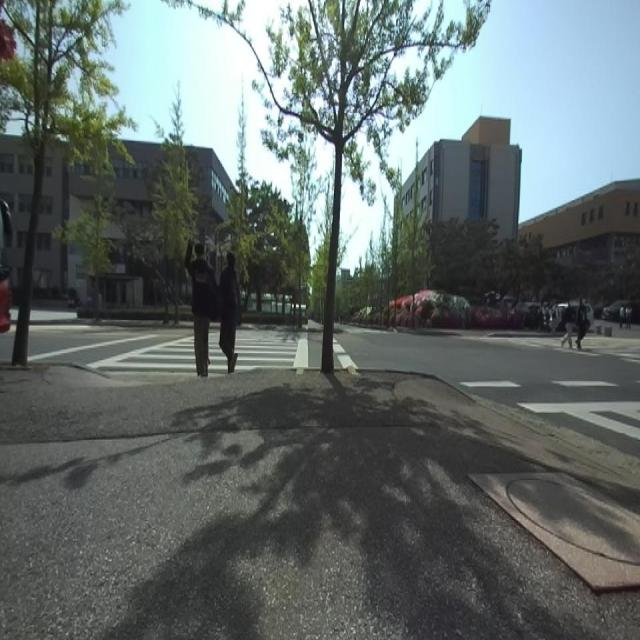sidewalk: (0, 365, 640, 638)
